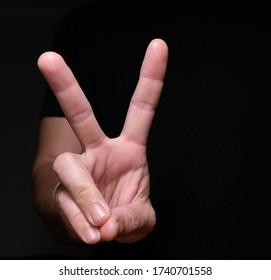peace_sign: (36, 32, 171, 249)
